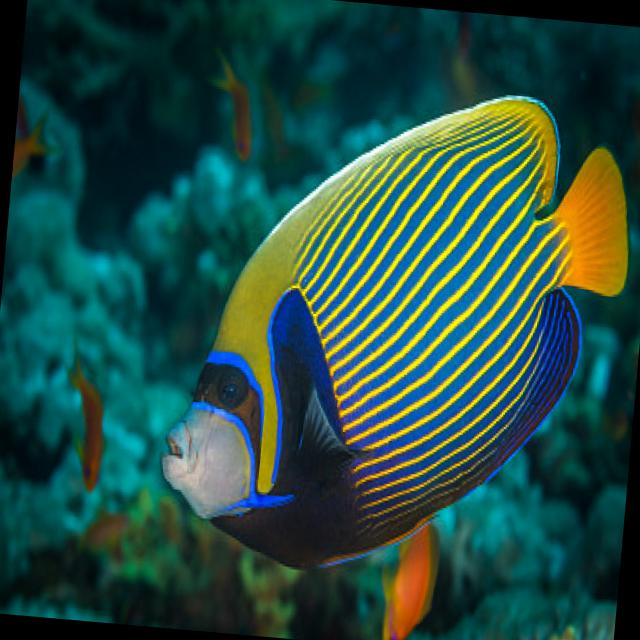AngelFish: (151, 66, 640, 640)
